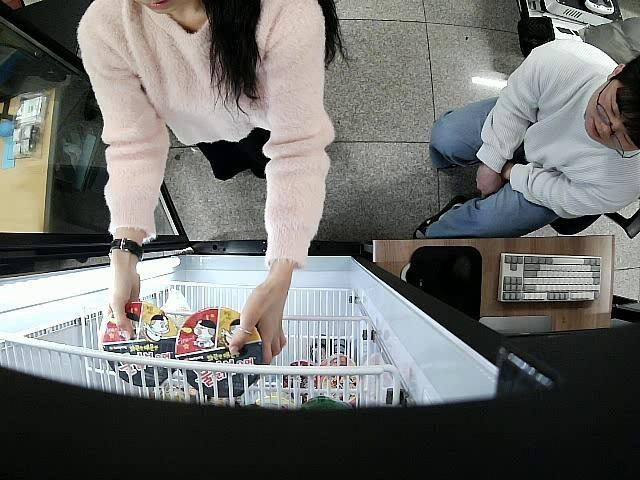07_buldak_L: (177, 310, 266, 397), (104, 302, 180, 386)
